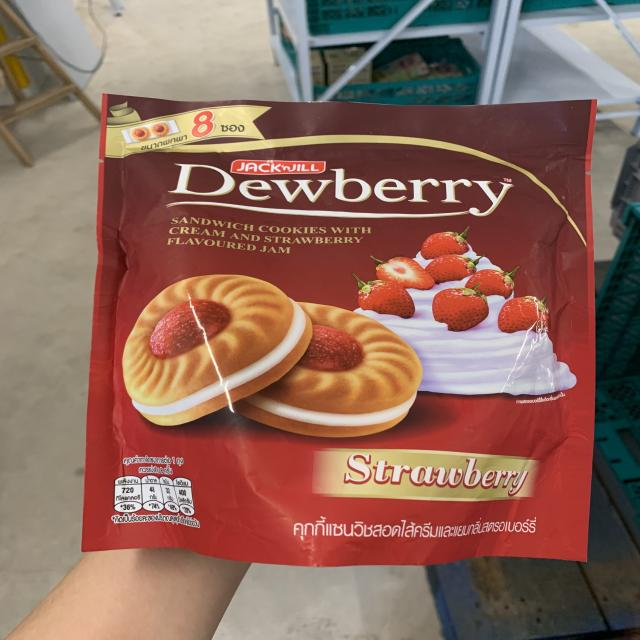object_name: (104, 92, 580, 559)
